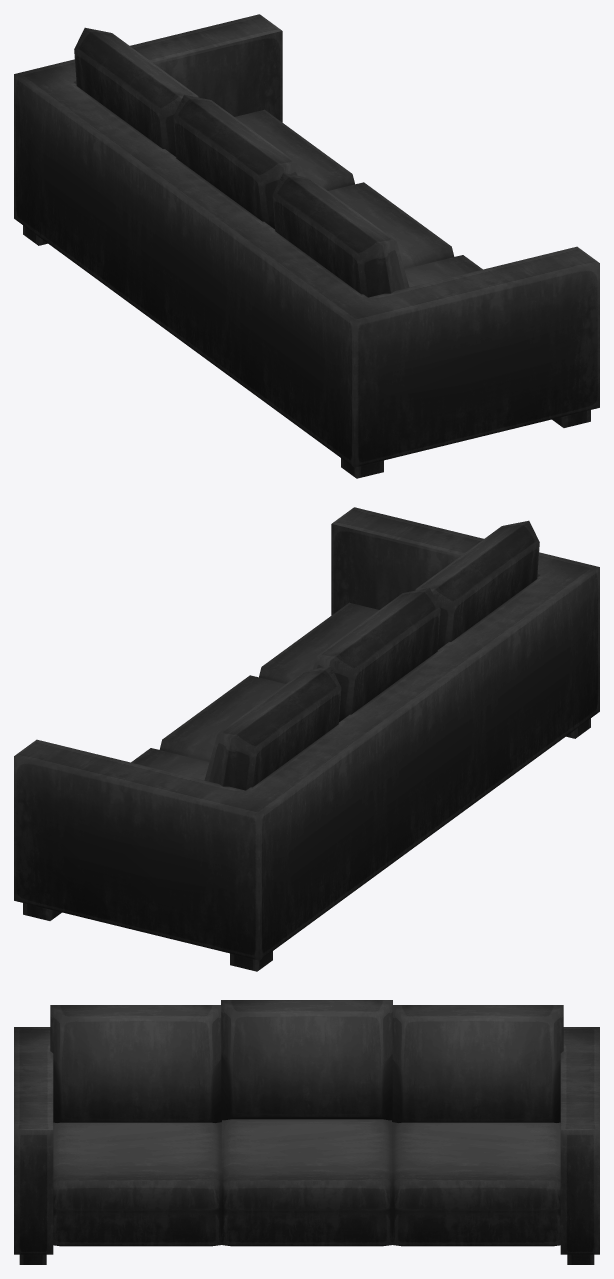
File: sofa.glb
3 renders of one model, top to bottom at view 1: azimuth 30°, elevation 25°; view 2: azimuth 150°, elevation 25°; view 3: azimuth 270°, elevation 25°, orthographic. The views are drawn at different scales.
Parts seen in each view (by area): view 1: Object_20.001; view 2: Object_20.001; view 3: Object_20.001.
Boxes of the visible parts, <box> form: Object_20.001: <box>14,14,599,478</box>; Object_20.001: <box>14,507,599,971</box>; Object_20.001: <box>14,1000,599,1264</box>.
Bounding box in the file's own units: 1.09 × 0.9118 × 2.62.
Materials: 1 (1 with a texture image).
